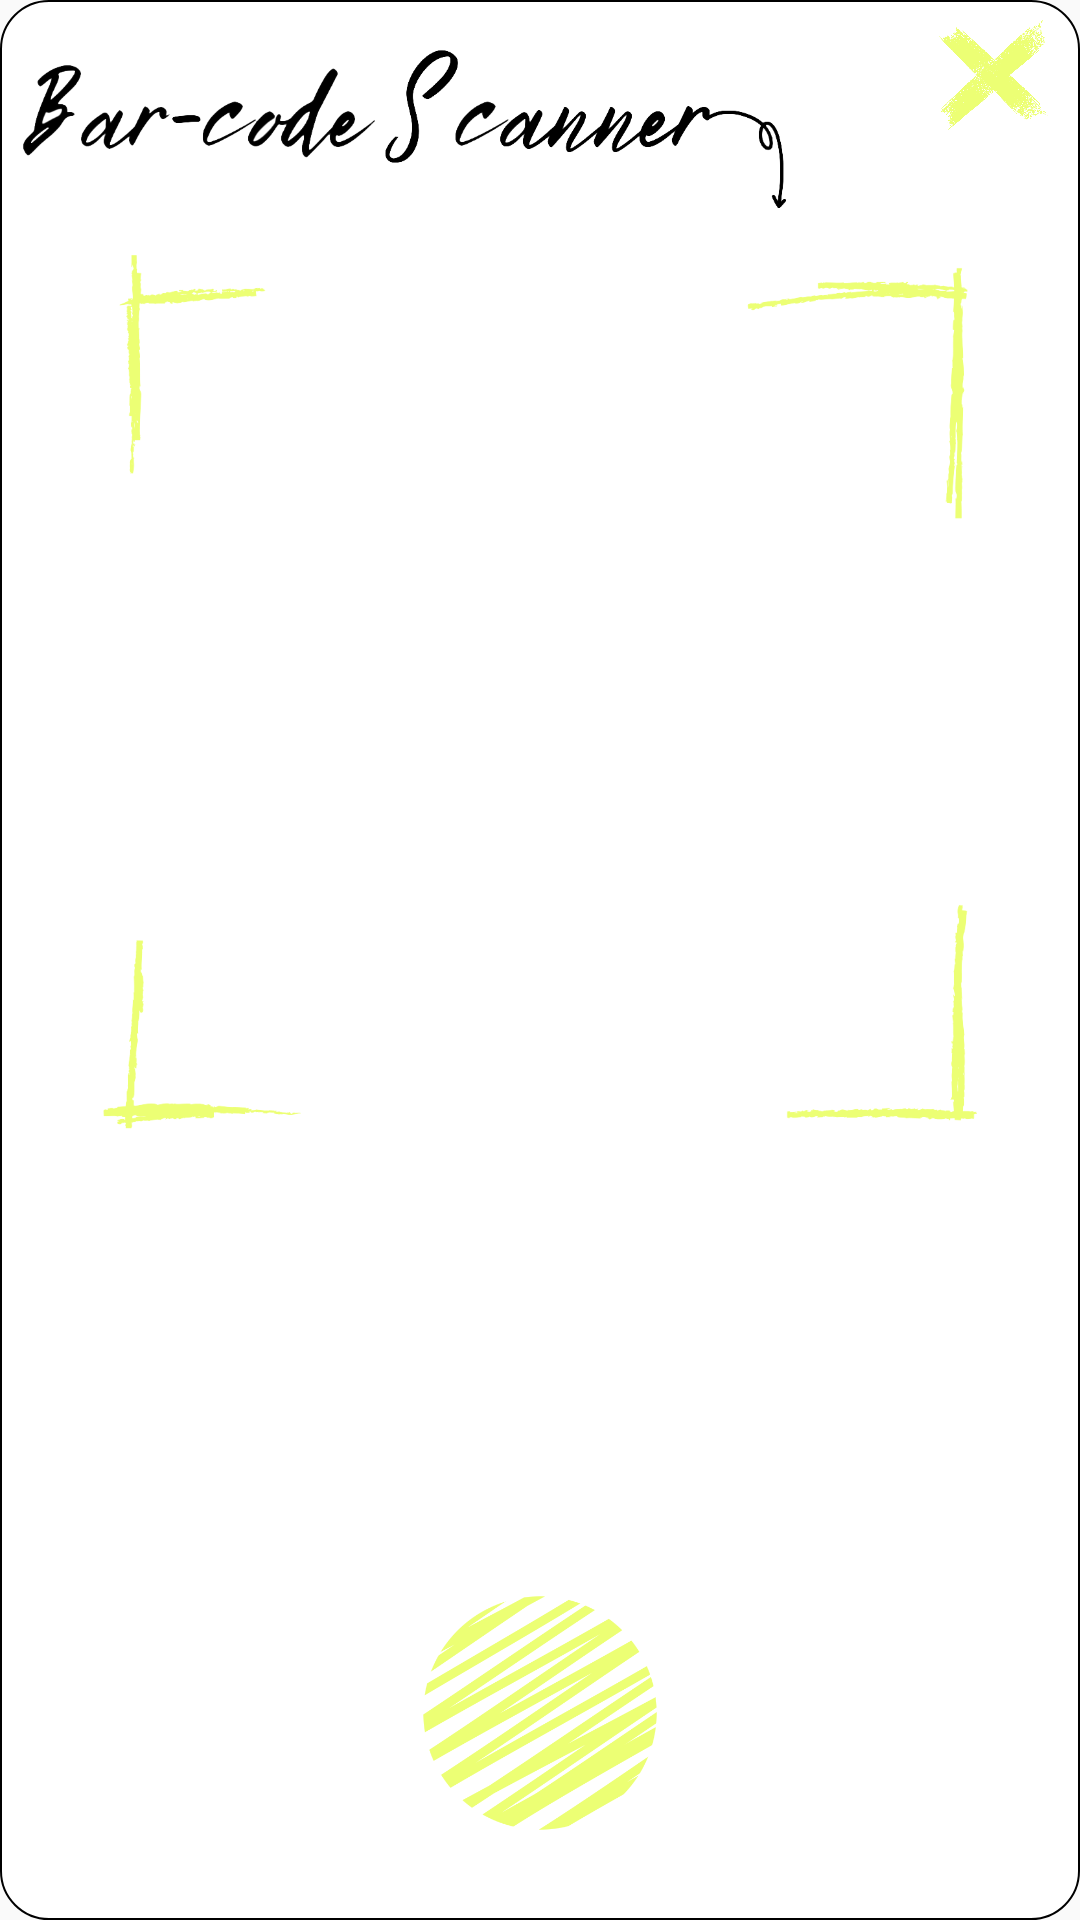

Icon click points for this 1080px×1920px phone screenshot, format point (x, y):
highlighter cross: point (993, 75)
